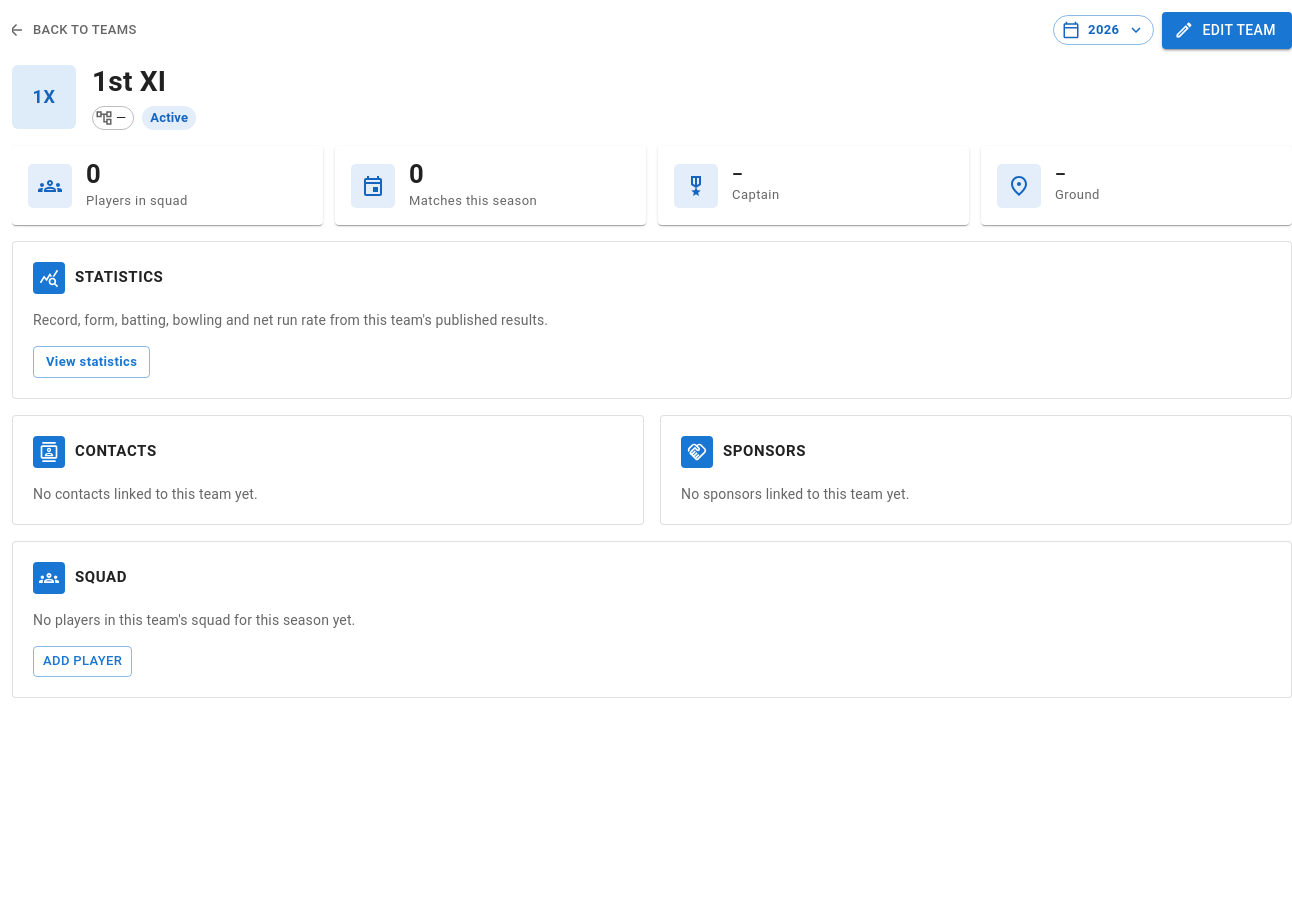
TeamDetailPage › offers no "All" option on the Season pill
Expected: the heading "1st XI" is shown, [92,64,166,98]
Click the button named "Season": x=1104, y=30 [1053,15,1154,45]
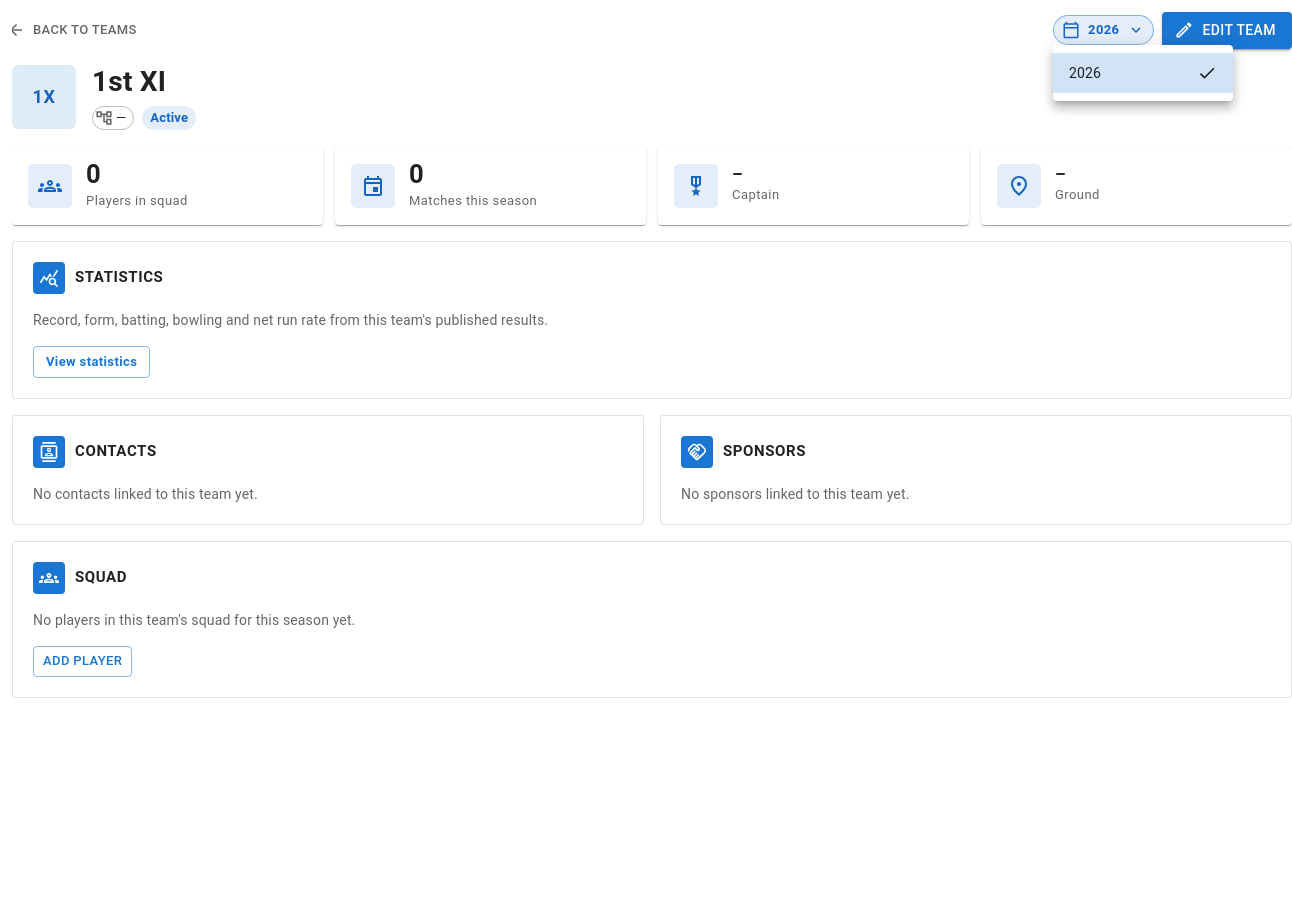
Expected: the option "2026" is shown, [1053,53,1233,93]
